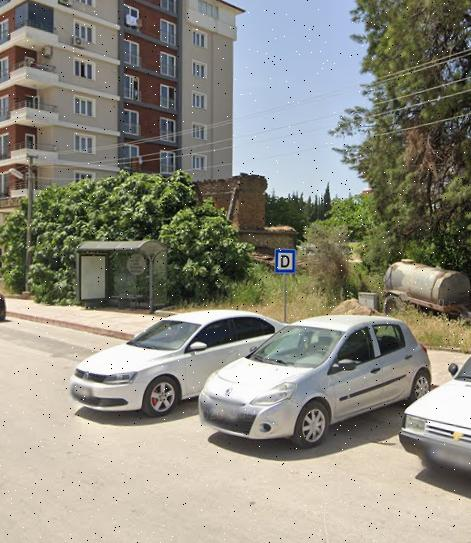station: (276, 250, 294, 271)
